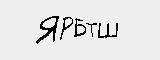Б: (72, 13, 86, 40)
Р: (59, 15, 73, 44)
Т: (86, 20, 100, 39)
Ш: (98, 21, 120, 40)
Я: (34, 15, 58, 44)
